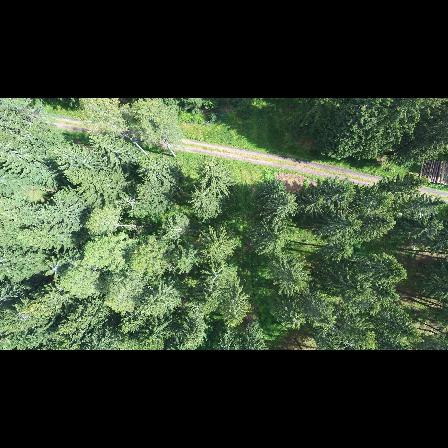Sick: (117, 193, 139, 213), (44, 257, 62, 280)
